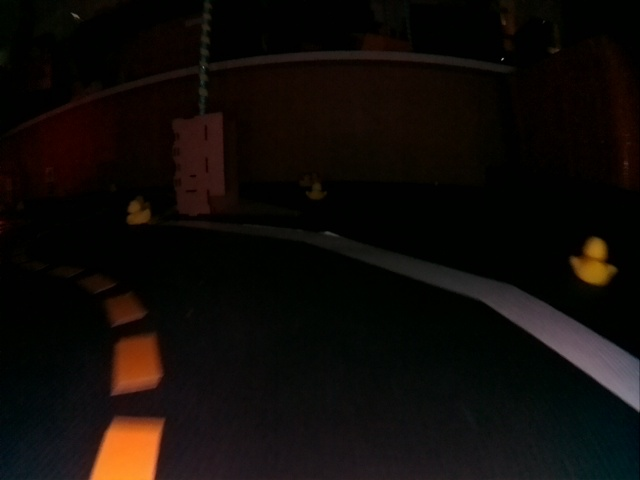Duckie: (571, 237, 615, 285), (127, 200, 151, 224), (306, 182, 327, 201)
